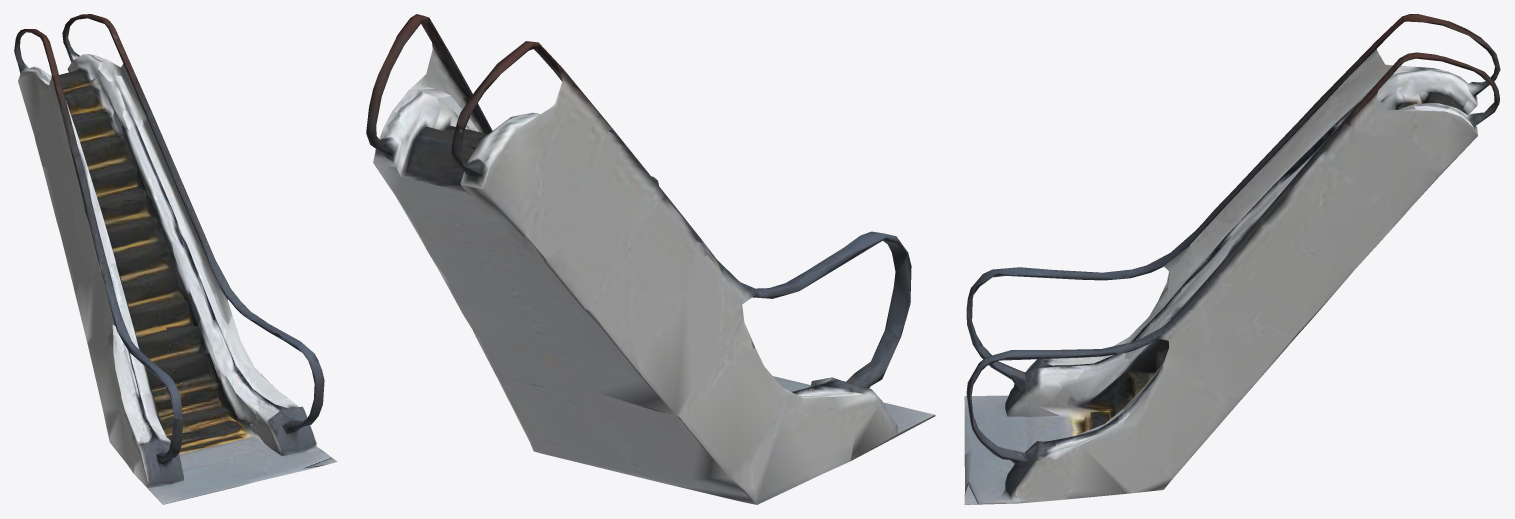
File: escalator_lod2.glb
3 views of the same model, side by side, from view 1: azimuth 30°, elevation 25°; view 2: azimuth 150°, elevation 25°; view 3: azimuth 270°, elevation 25° (orthographic). The views are drawn at different scales.
Visible parts, largest first — view 1: tripo_node_59b73951-176b-484b-a6e7-6d5a47ee7de9; view 2: tripo_node_59b73951-176b-484b-a6e7-6d5a47ee7de9; view 3: tripo_node_59b73951-176b-484b-a6e7-6d5a47ee7de9.
Boxes of the visible parts, x1,y1,x2,y2 form: tripo_node_59b73951-176b-484b-a6e7-6d5a47ee7de9: [14, 14, 337, 504]; tripo_node_59b73951-176b-484b-a6e7-6d5a47ee7de9: [366, 14, 935, 504]; tripo_node_59b73951-176b-484b-a6e7-6d5a47ee7de9: [964, 14, 1500, 504].
Bounding box in the file's own units: 0.4794 × 0.8622 × 0.9998.
1 material, 1 textured.
